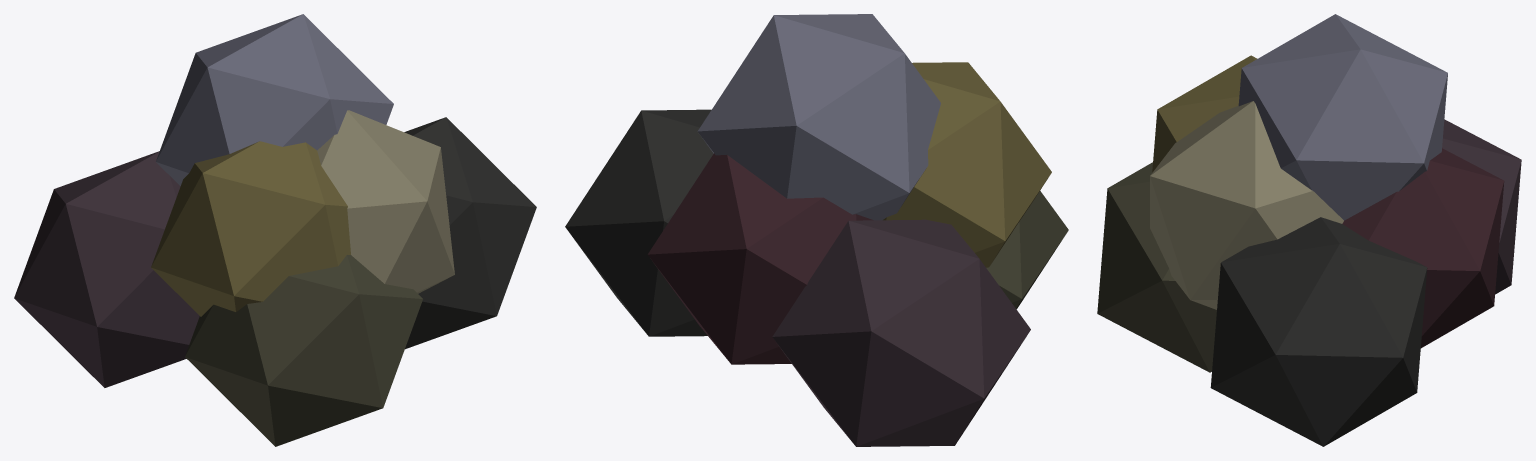
Rendered from Rochers.fbx.
3 views of the same model, side by side, from view 1: azimuth 30°, elevation 25°; view 2: azimuth 150°, elevation 25°; view 3: azimuth 270°, elevation 25° (orthographic). The views are drawn at different scales.
Visible parts, largest first — view 1: Icosphere.005, Icosphere.006, Icosphere.001, Icosphere.002, Icosphere, Icosphere.004; view 2: Icosphere.006, Icosphere.002, Icosphere.003, Icosphere.004, Icosphere.001, Icosphere.005; view 3: Icosphere.004, Icosphere.002, Icosphere, Icosphere.003, Icosphere.005, Icosphere.006, Icosphere.001.
Boxes of the visible parts, x1,y1,x2,y2 form: Icosphere.005: [185, 255, 422, 446]; Icosphere.006: [14, 151, 199, 387]; Icosphere.001: [151, 141, 350, 316]; Icosphere.002: [156, 14, 393, 185]; Icosphere: [317, 110, 454, 293]; Icosphere.004: [404, 117, 536, 349]; Icosphere.006: [772, 219, 1030, 446]; Icosphere.002: [697, 14, 940, 220]; Icosphere.003: [647, 153, 873, 364]; Icosphere.004: [565, 109, 713, 336]; Icosphere.001: [883, 62, 1051, 267]; Icosphere.005: [986, 191, 1068, 309]; Icosphere.004: [1210, 217, 1427, 446]; Icosphere.002: [1238, 14, 1447, 220]; Icosphere: [1150, 101, 1343, 309]; Icosphere.003: [1342, 148, 1504, 348]; Icosphere.005: [1097, 162, 1216, 372]; Icosphere.006: [1442, 119, 1521, 294]; Icosphere.001: [1152, 55, 1257, 172].
Size of the model in its own units: 407 by 306 by 342.
